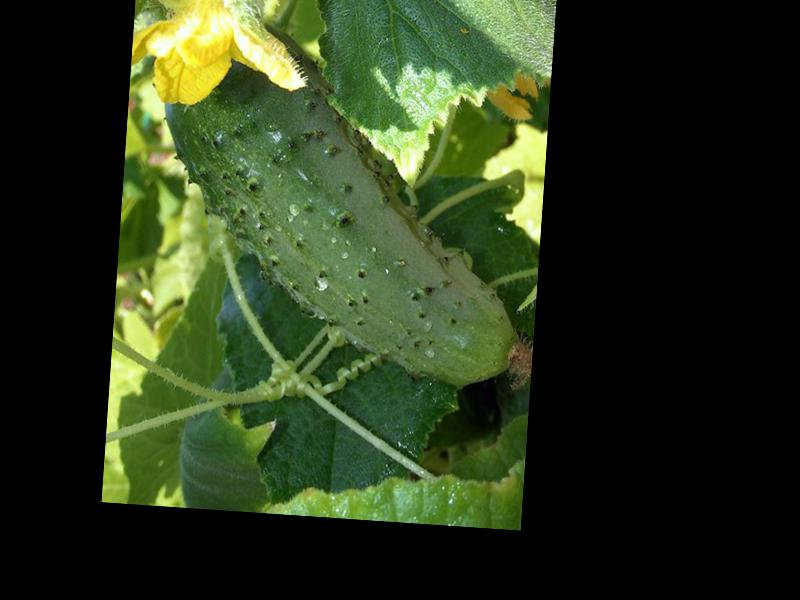Cucumber: (147, 16, 552, 391)
